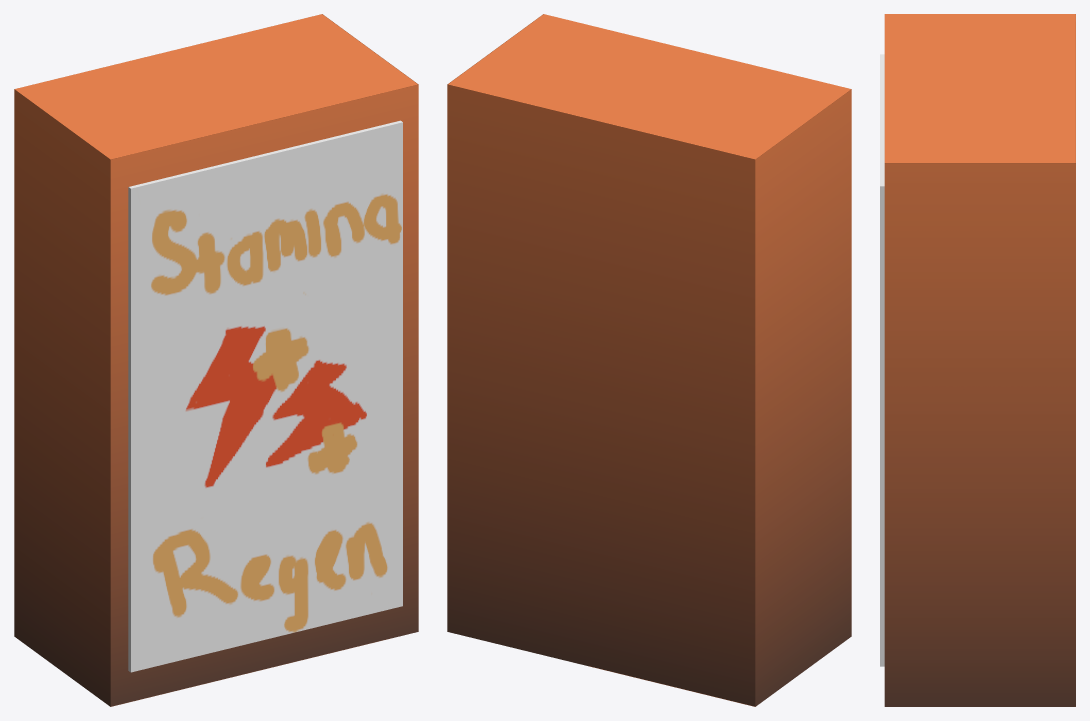
The model's file is Stamina Regen Upgrade.glb.
The picture shows the model from 3 angles, left to right: view 1: azimuth 30°, elevation 25°; view 2: azimuth 150°, elevation 25°; view 3: azimuth 270°, elevation 25°; orthographic projection.
Parts seen in each view (by area): view 1: Cube.001, Cube; view 2: Cube; view 3: Cube, Cube.001.
Part boxes in pixels (left/top/right/bottom): Cube.001: left=128, top=120, right=402, bottom=672; Cube: left=14, top=14, right=418, bottom=706; Cube: left=447, top=14, right=851, bottom=706; Cube: left=884, top=14, right=1075, bottom=706; Cube.001: left=880, top=54, right=884, bottom=666.
Size of the model in its own units: 1.07 by 1.81 by 0.5908.
2 materials, 2 textured.
